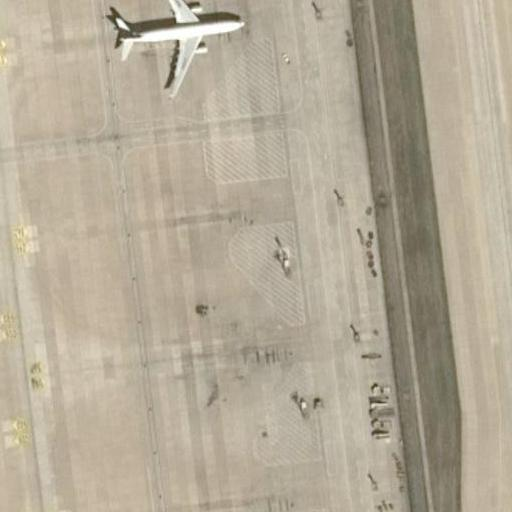Aircraft: (91, 0, 250, 89)
